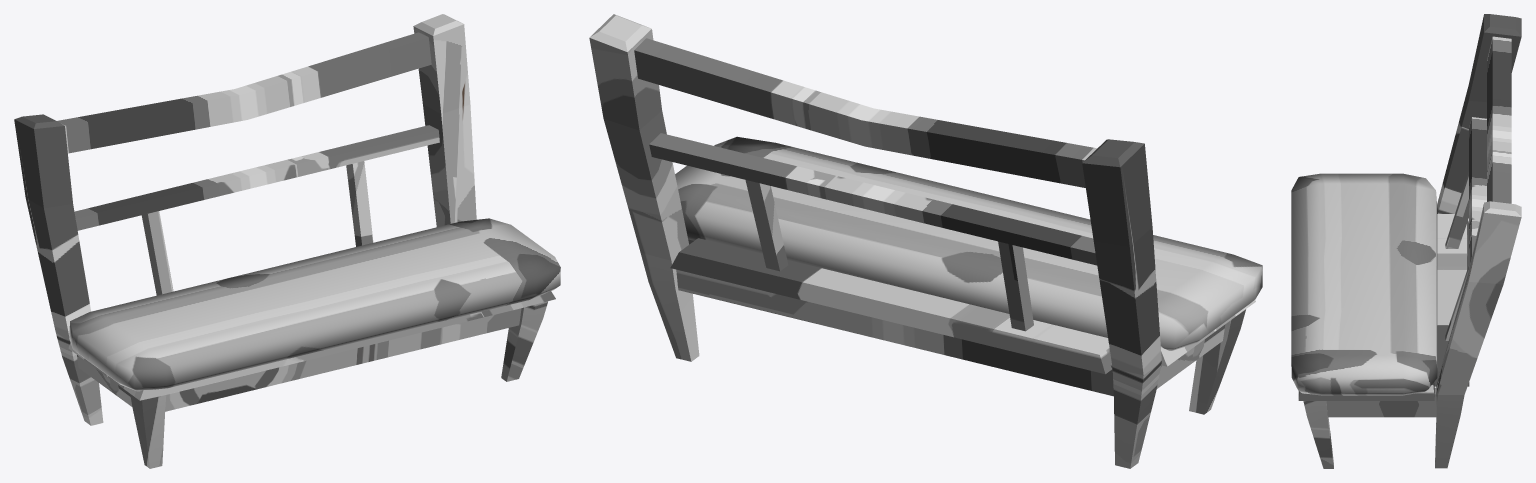
Rendered from housepack_sofa_2_meshCollider.FBX.
3 renders of one model, left to right at view 1: azimuth 30°, elevation 25°; view 2: azimuth 150°, elevation 25°; view 3: azimuth 270°, elevation 25°, orthographic. The views are drawn at different scales.
Parts seen in each view (by area): view 1: housepack_sofa_2_meshCollider; view 2: housepack_sofa_2_meshCollider; view 3: housepack_sofa_2_meshCollider.
Boxes of the visible parts, x1,y1,x2,y2 form: housepack_sofa_2_meshCollider: [14, 14, 560, 468]; housepack_sofa_2_meshCollider: [589, 14, 1262, 468]; housepack_sofa_2_meshCollider: [1291, 14, 1521, 468].
Size of the model in its own units: 98.72 by 61.96 by 47.48.
